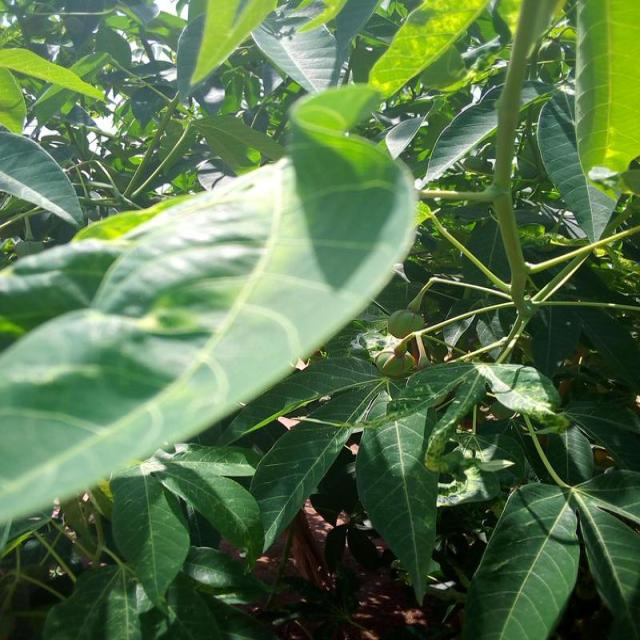cassava leaf: (0, 83, 419, 538), (354, 391, 440, 606)
